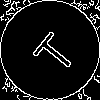T: (25, 25, 80, 77)
